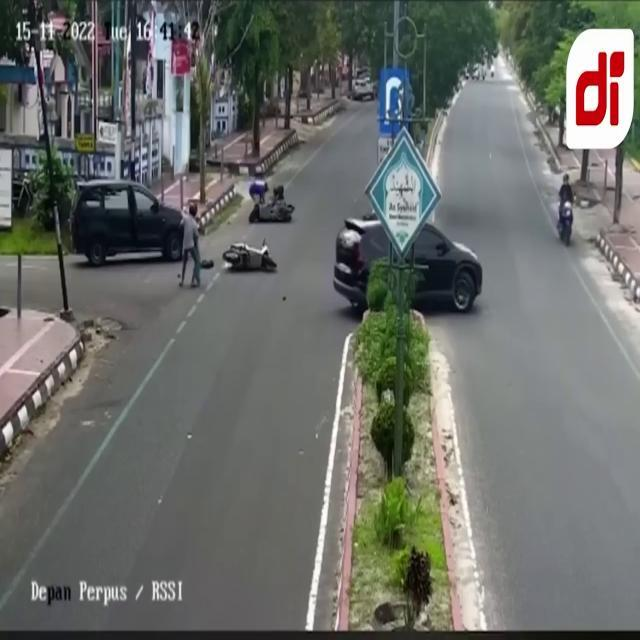multiple_accident: (230, 161, 293, 306)
normal: (333, 221, 474, 300), (76, 174, 187, 263)
